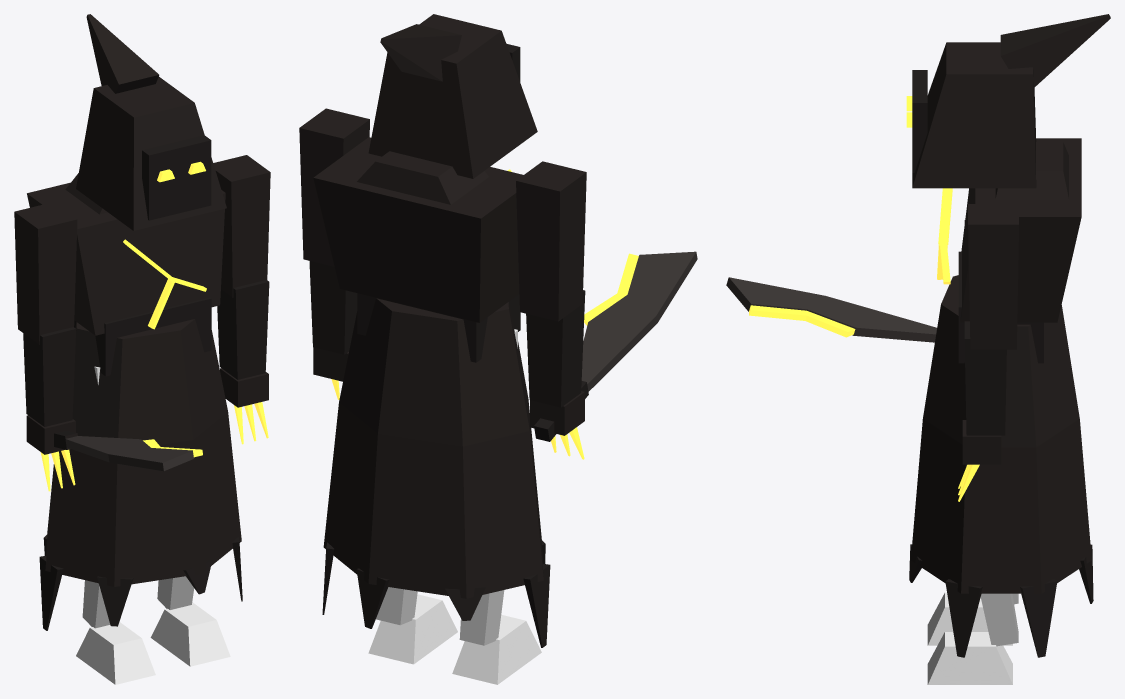
File: CriaDasCinzas.fbx
3 renders of one model, left to right at view 1: azimuth 30°, elevation 25°; view 2: azimuth 150°, elevation 25°; view 3: azimuth 270°, elevation 25°, orthographic. The views are drawn at different scales.
Parts seen in each view (by area): view 1: Body, Head, ArmR, ArmL, LegL, LegR; view 2: Body, ArmR, Head, ArmL, LegR, LegL; view 3: Body, Head, ArmL, ArmR, LegL, LegR.
Part boxes in pixels (<box>): Body: <box>27,173,242,630</box>; Head: <box>76,14,226,230</box>; ArmR: <box>14,202,202,491</box>; ArmL: <box>213,155,270,444</box>; LegL: <box>150,576,230,666</box>; LegR: <box>76,366,155,684</box>; Body: <box>313,137,550,647</box>; ArmR: <box>516,161,697,459</box>; Head: <box>368,14,537,178</box>; ArmL: <box>299,108,369,399</box>; LegR: <box>452,329,541,684</box>; LegL: <box>368,587,457,664</box>; Body: <box>909,138,1093,657</box>; Head: <box>906,14,1110,188</box>; ArmL: <box>958,204,1018,501</box>; ArmR: <box>726,220,965,342</box>; LegL: <box>927,593,1018,684</box>; LegR: <box>927,592,1018,645</box>.
Size of the model in its own units: 0.6345 by 1.55 by 0.8441.
